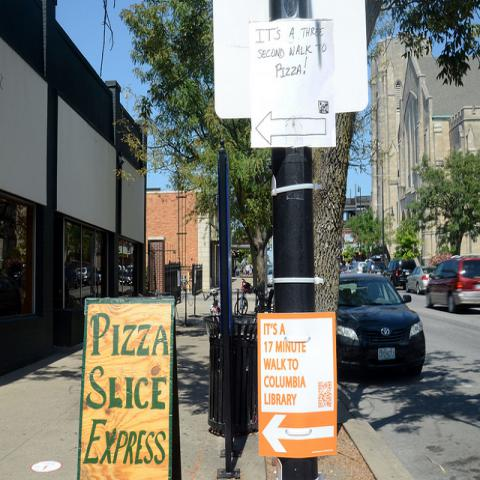car: (339, 276, 427, 383), (424, 255, 480, 313), (405, 266, 436, 294), (391, 260, 416, 285), (362, 262, 388, 273), (351, 262, 367, 273), (370, 255, 382, 262), (344, 266, 354, 274), (268, 274, 272, 286), (267, 265, 272, 273)
